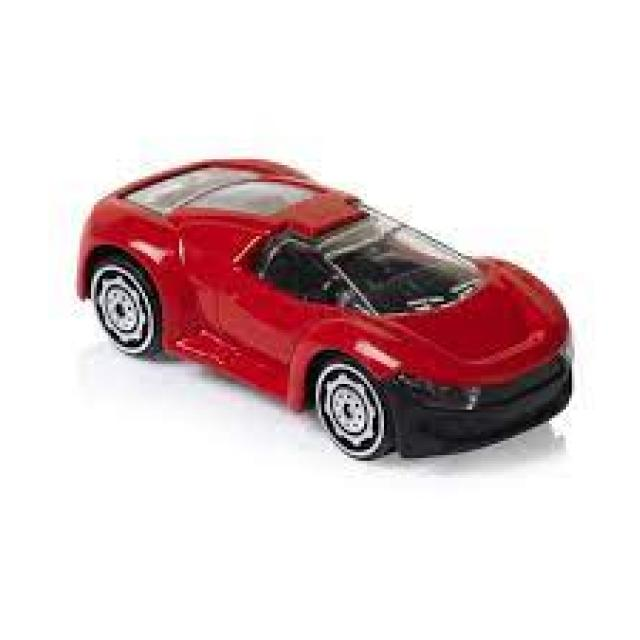Car: (77, 154, 577, 460)
